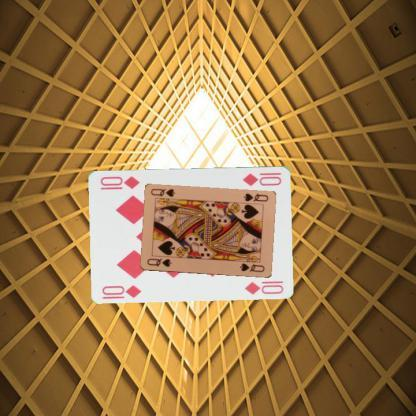10d: (240, 169, 283, 187), (100, 282, 143, 299)
Qs: (240, 190, 270, 202), (144, 256, 172, 268)
